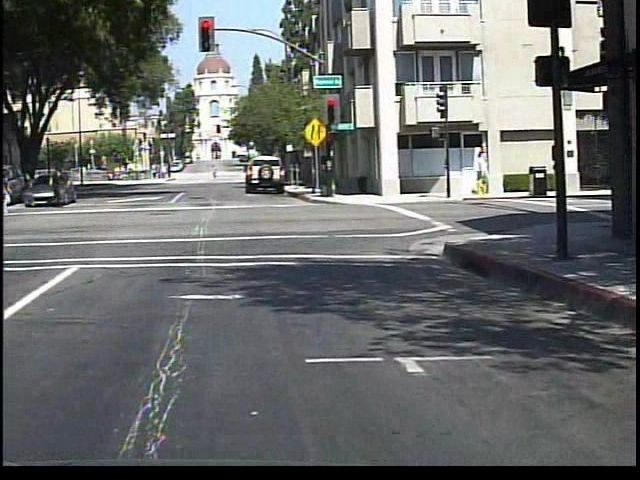person: (48, 165, 72, 210), (7, 168, 12, 221), (214, 164, 224, 182)
